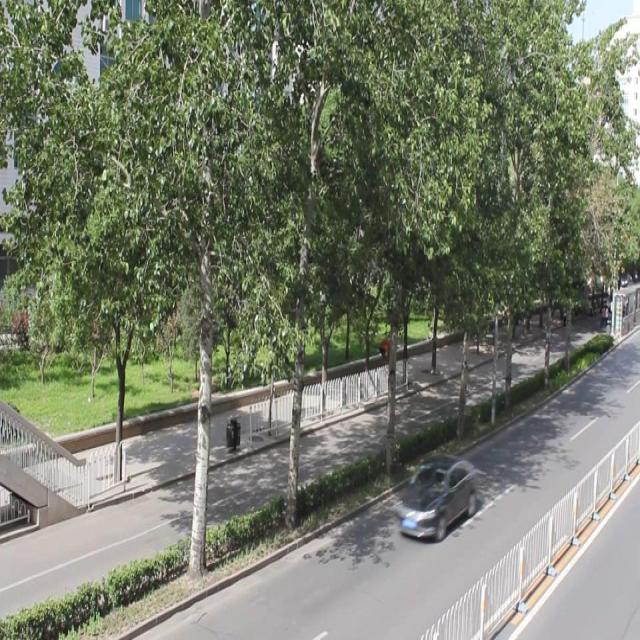car: (396, 453, 477, 537)
